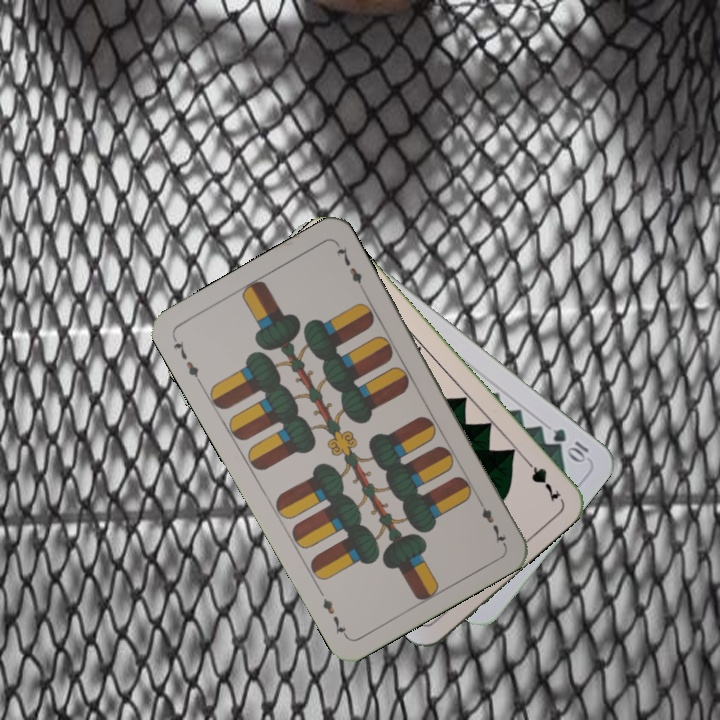E7: (472, 493, 508, 547), (169, 333, 204, 387)
G10: (548, 424, 592, 465)
G7: (519, 453, 564, 505)
